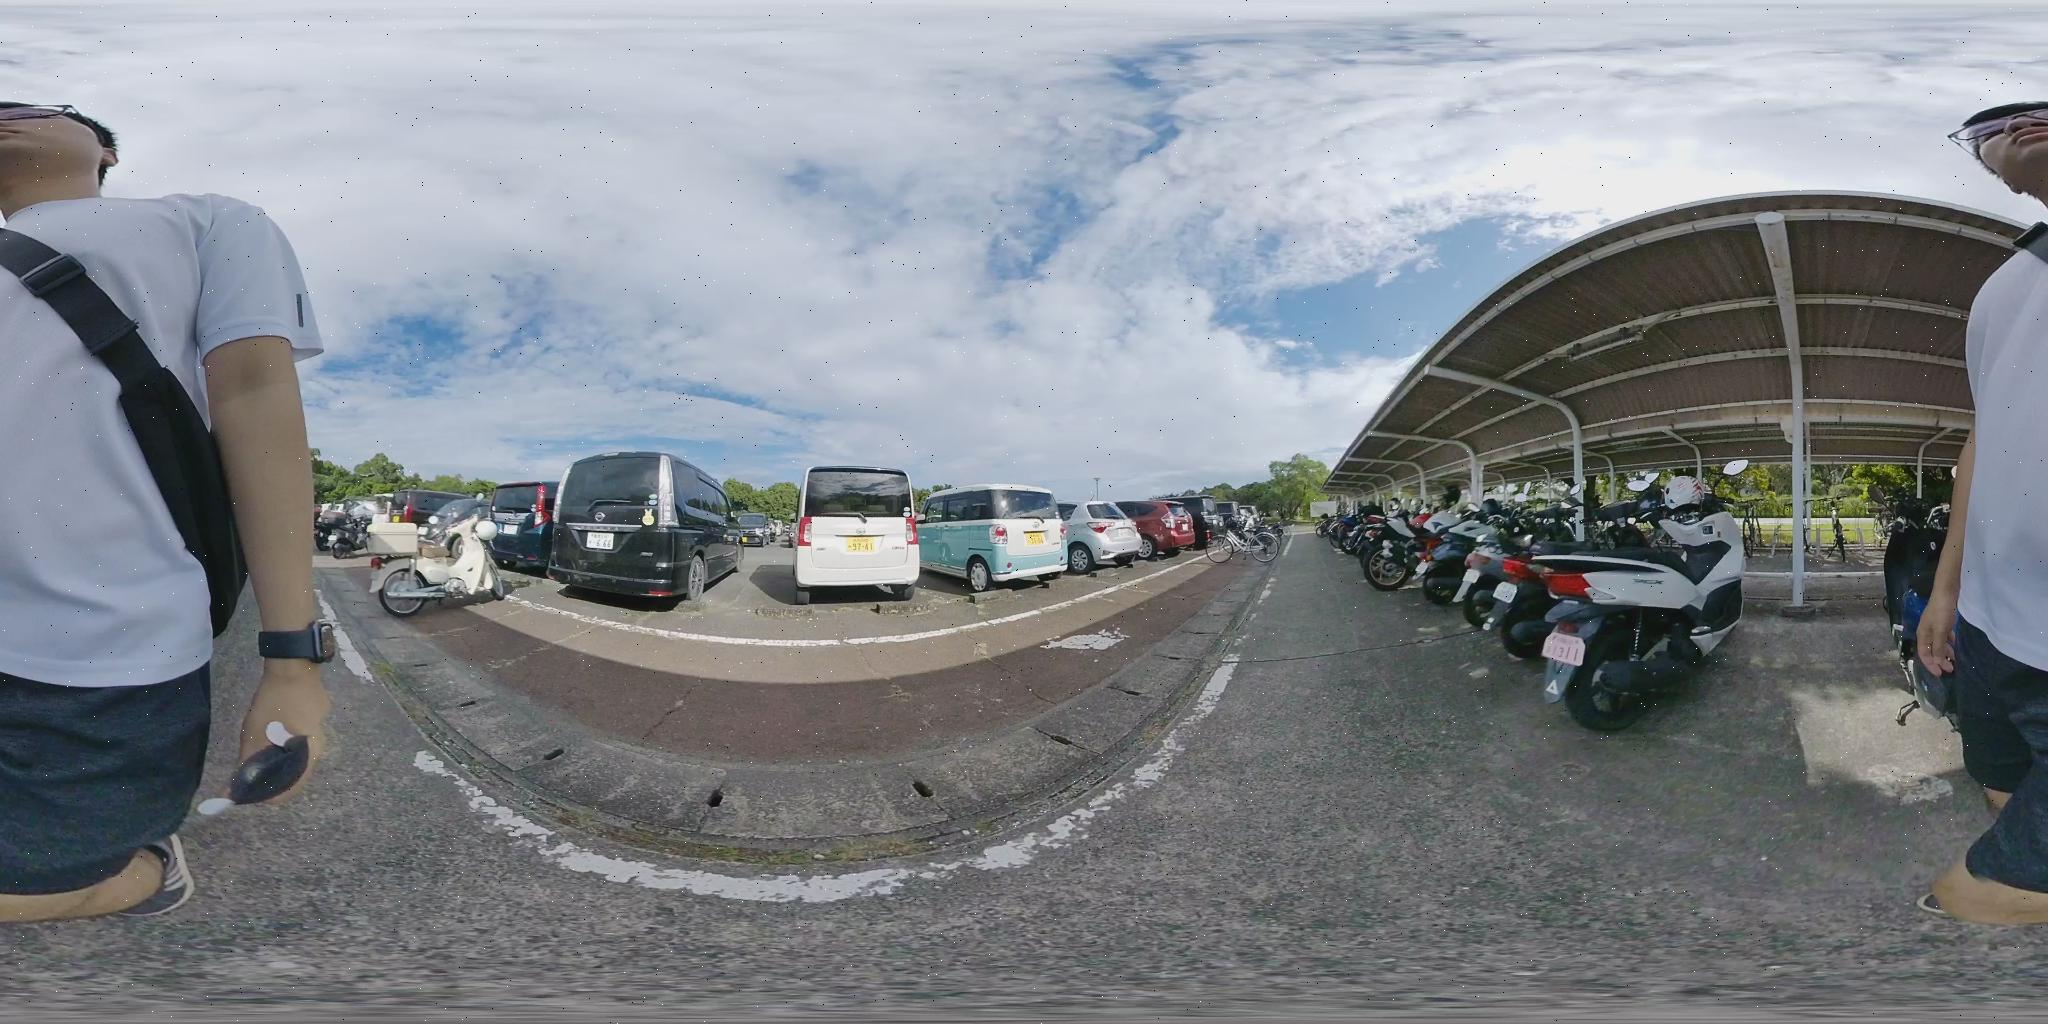car: (547, 455, 755, 603), (797, 469, 917, 613), (921, 490, 1058, 586), (1062, 503, 1151, 571), (730, 516, 780, 546)
